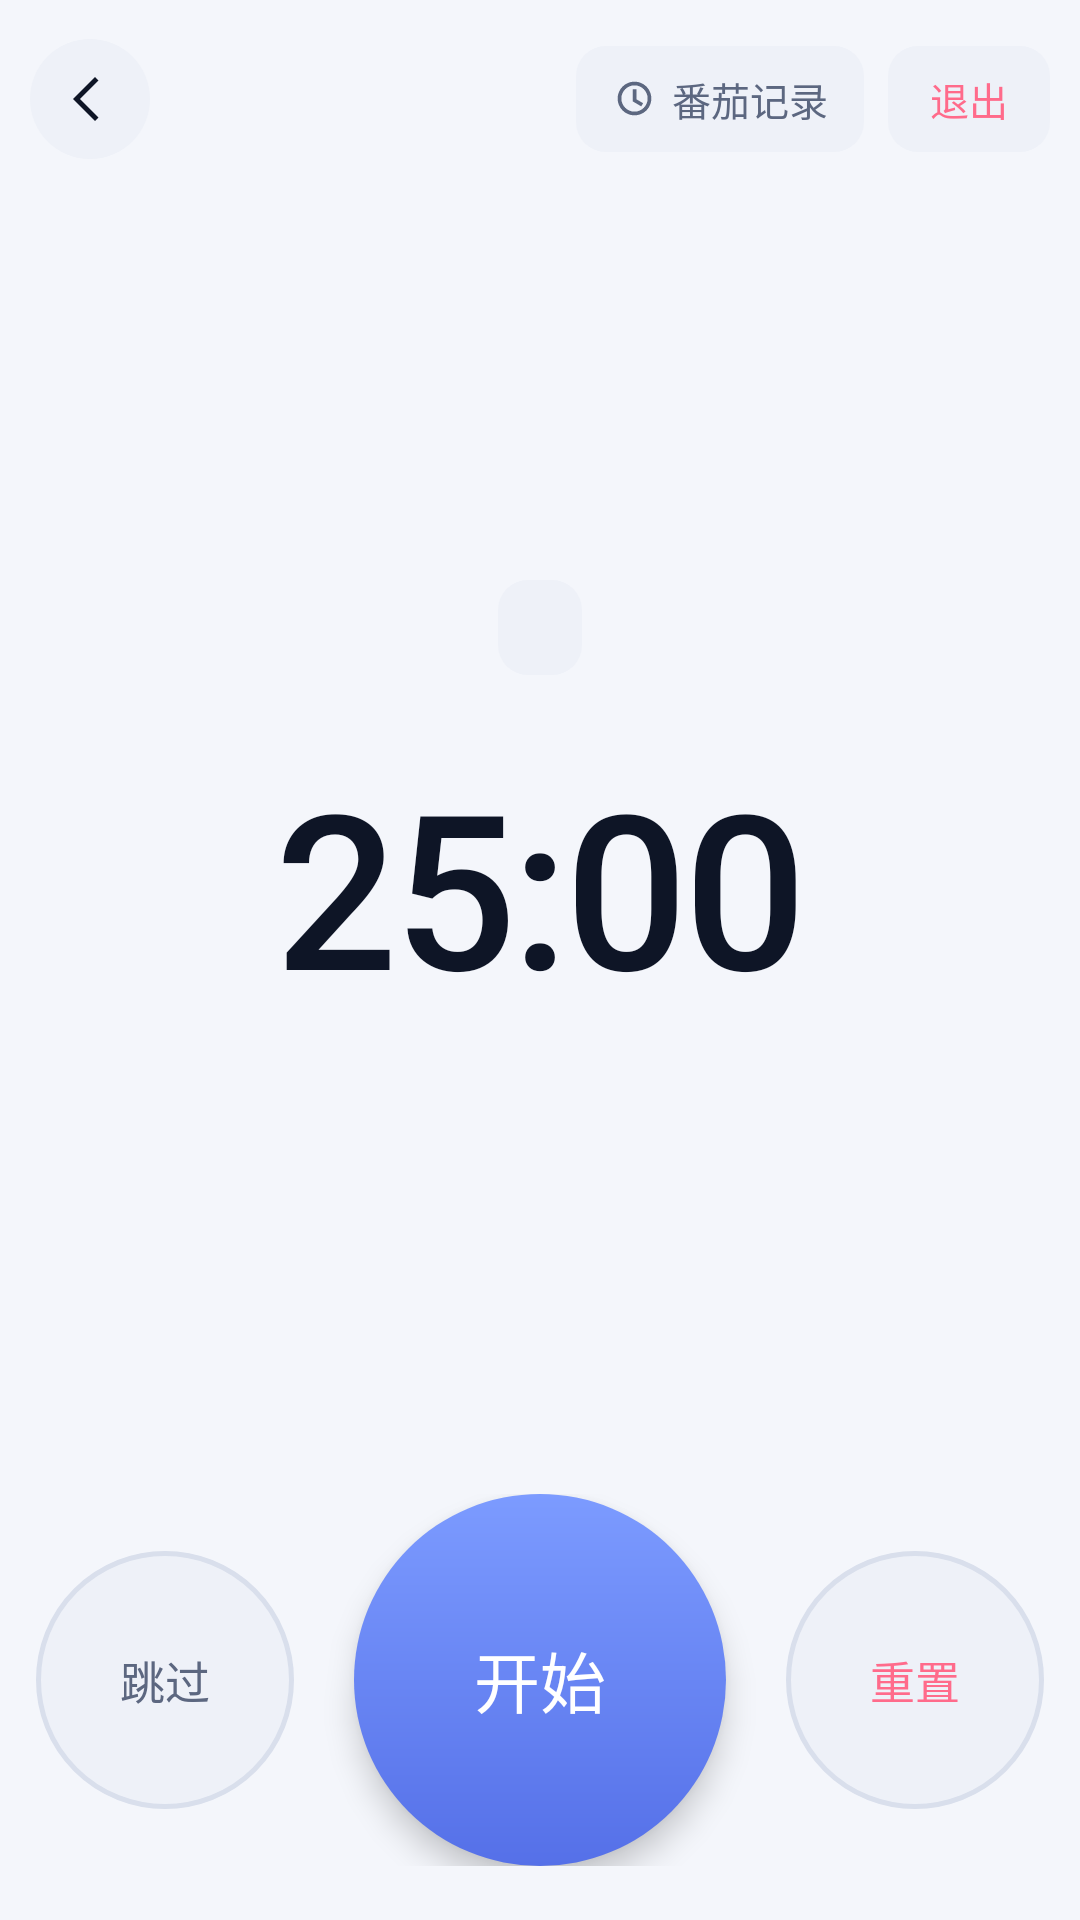

Named icons in this screenshot (1080px x 1920px) and their centers, (x=x, y=y):
history: (x=634, y=98)
返回: (x=86, y=99)
